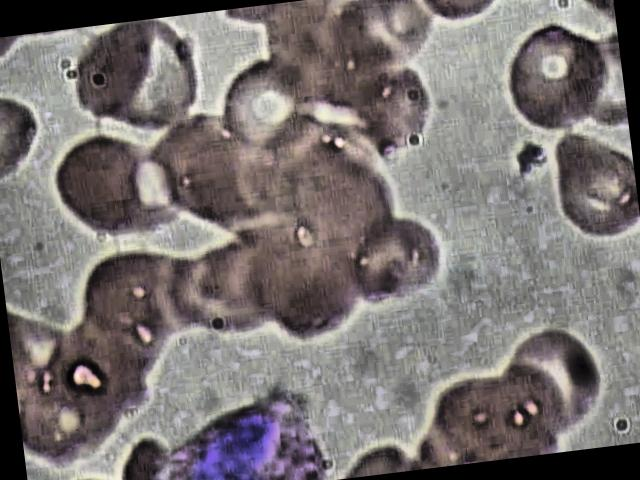Platelets: (151, 364, 331, 480)
RBC: (483, 316, 618, 449), (495, 14, 621, 144), (44, 124, 170, 252), (205, 50, 331, 172), (334, 210, 452, 320), (57, 20, 175, 130), (540, 123, 640, 251), (356, 58, 444, 164), (0, 82, 50, 192)
